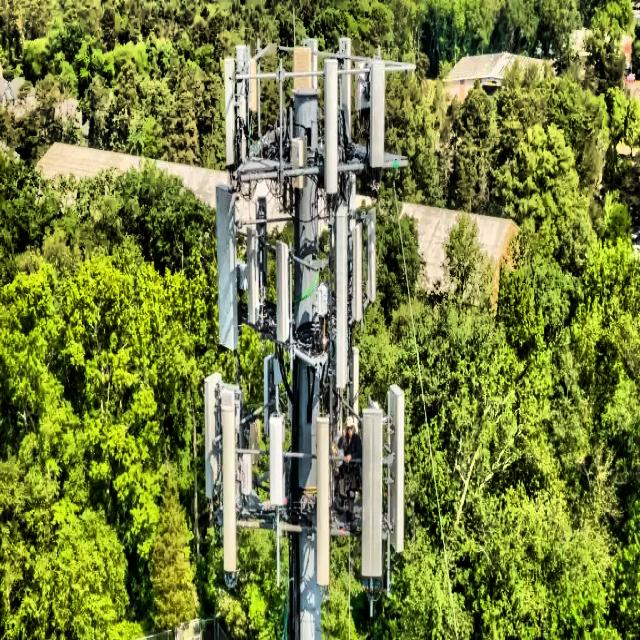antenna: (361, 404, 382, 578), (220, 384, 238, 587), (216, 185, 237, 349), (387, 384, 404, 552), (334, 203, 348, 389), (315, 416, 330, 585), (204, 373, 221, 499), (324, 59, 338, 193), (369, 59, 384, 167), (275, 241, 291, 342), (338, 37, 351, 142), (223, 57, 235, 166)
